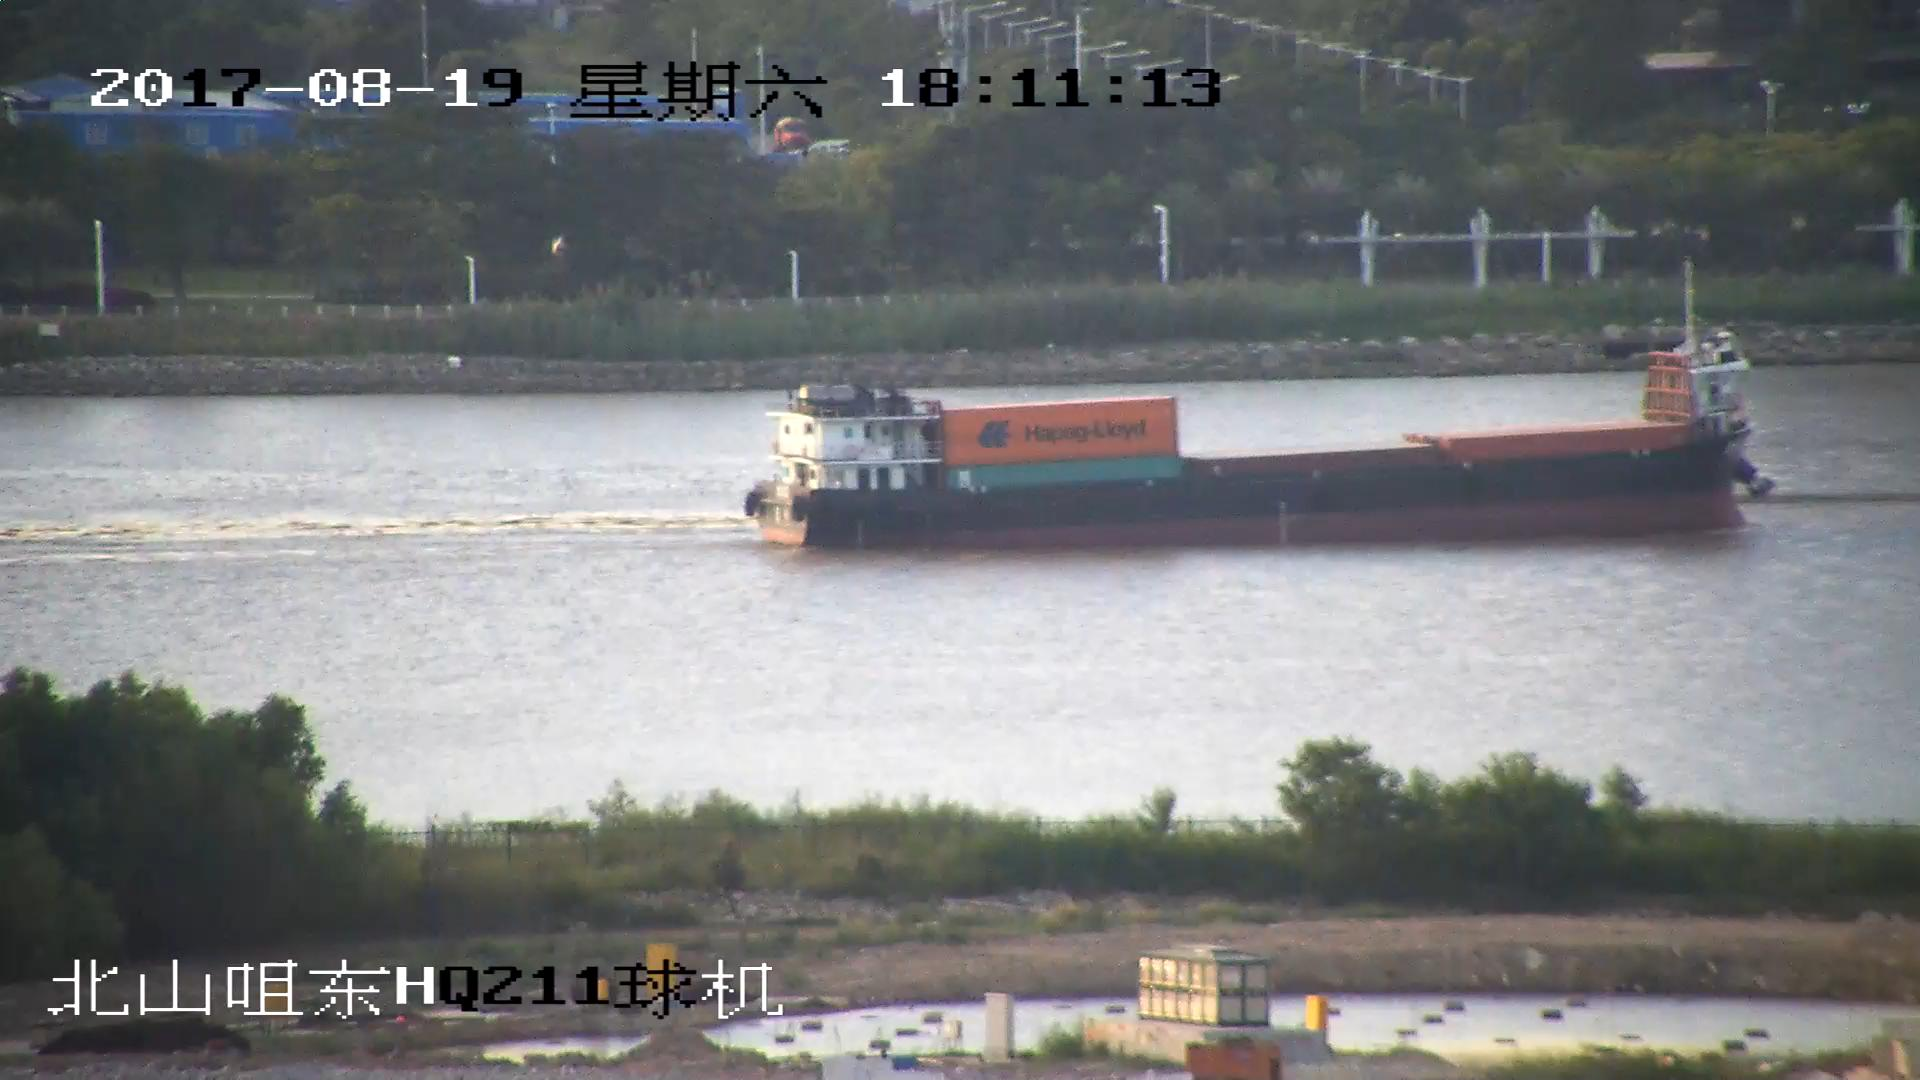container ship: (742, 261, 1771, 552)
